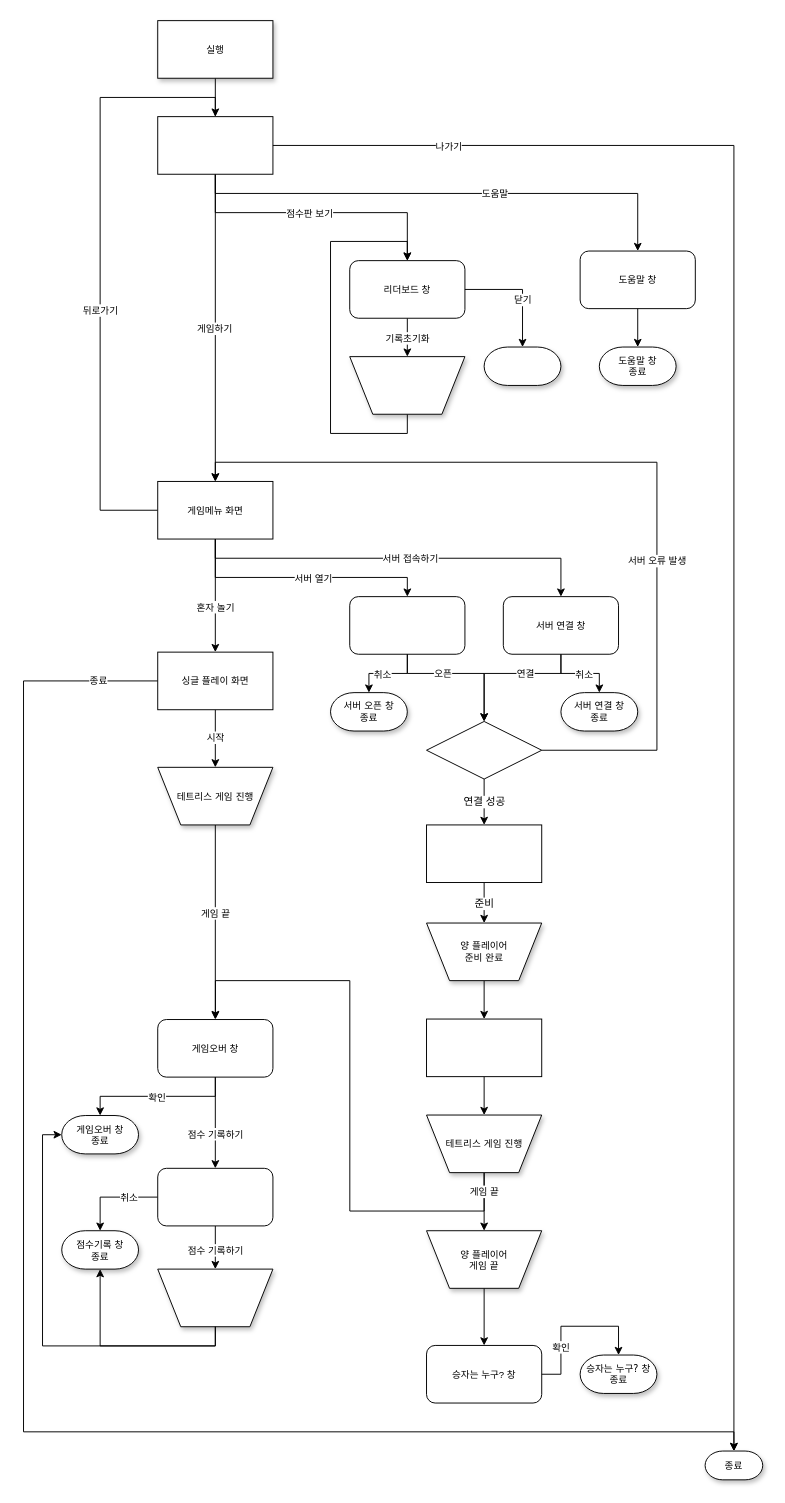
This 785x1503 diagram has some shape labels left out. Here are the shapes that lost their labels. From the top down, the centre of each, then its label:
(x=215, y=145): 메뉴 화면
(x=408, y=386): 점수 초기화
(x=523, y=367): 리더보드 창 종료
(x=407, y=625): 서버 오픈 창
(x=484, y=749): 서버 연결
(x=484, y=853): 서버 로비 화면
(x=484, y=1047): 멀티 플레이 화면
(x=215, y=1196): 점수기록 창
(x=216, y=1298): 점수 기록
